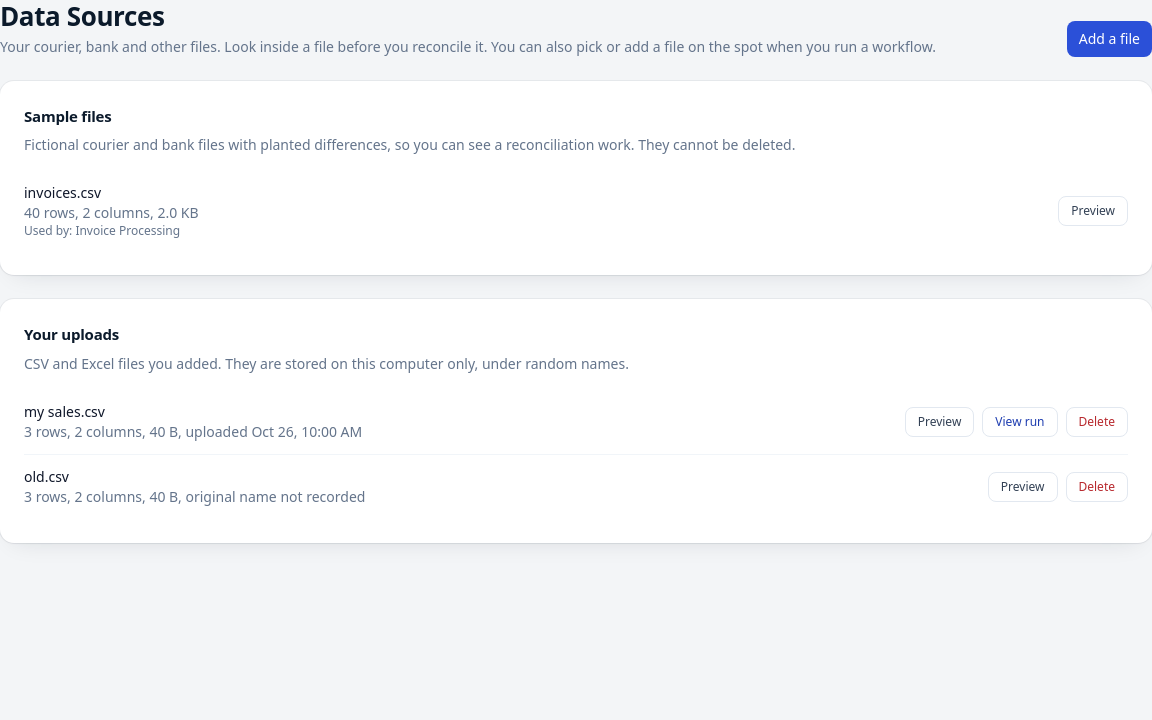
Test case: preview shows columns and the first rows
Expected: the text "my sales.csv" is shown, x1=24 y1=402 x2=105 y2=420
Click the button "Preview" next to "View run" at (940, 422), box x1=905 y1=406 x2=974 y2=436
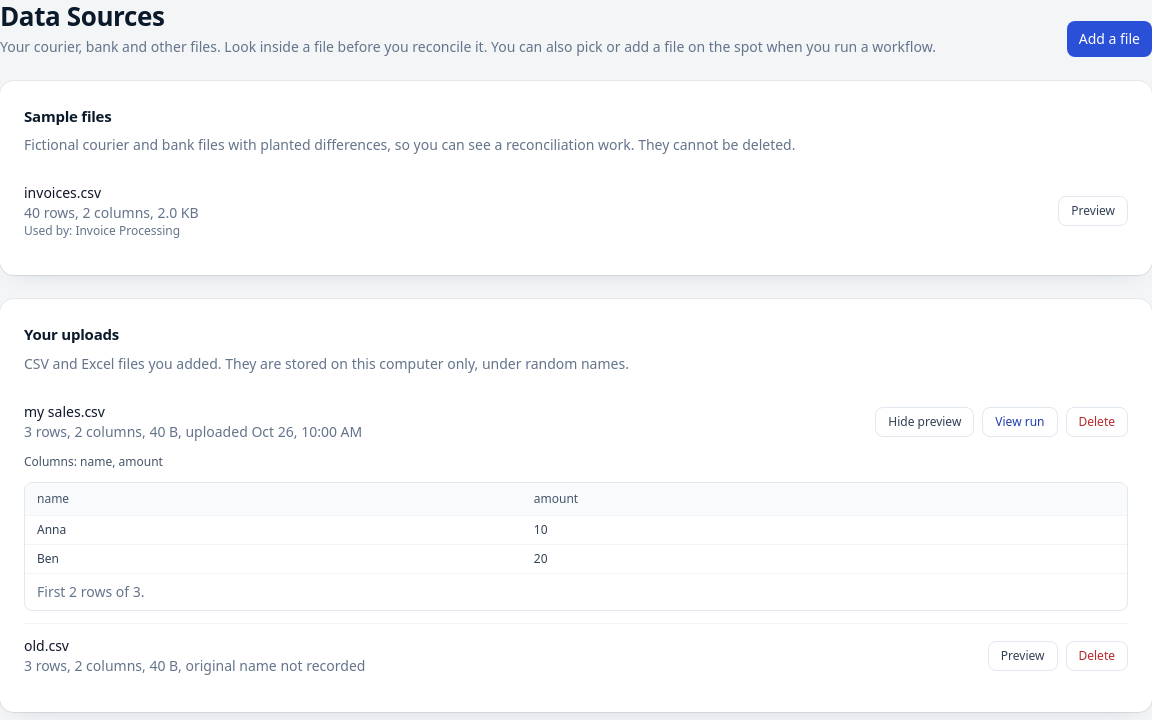
Result: the table named "Preview of my sales.csv" is shown at x1=25 y1=482 x2=1127 y2=572
Result: the text "Anna" is shown at x1=25 y1=515 x2=522 y2=544
